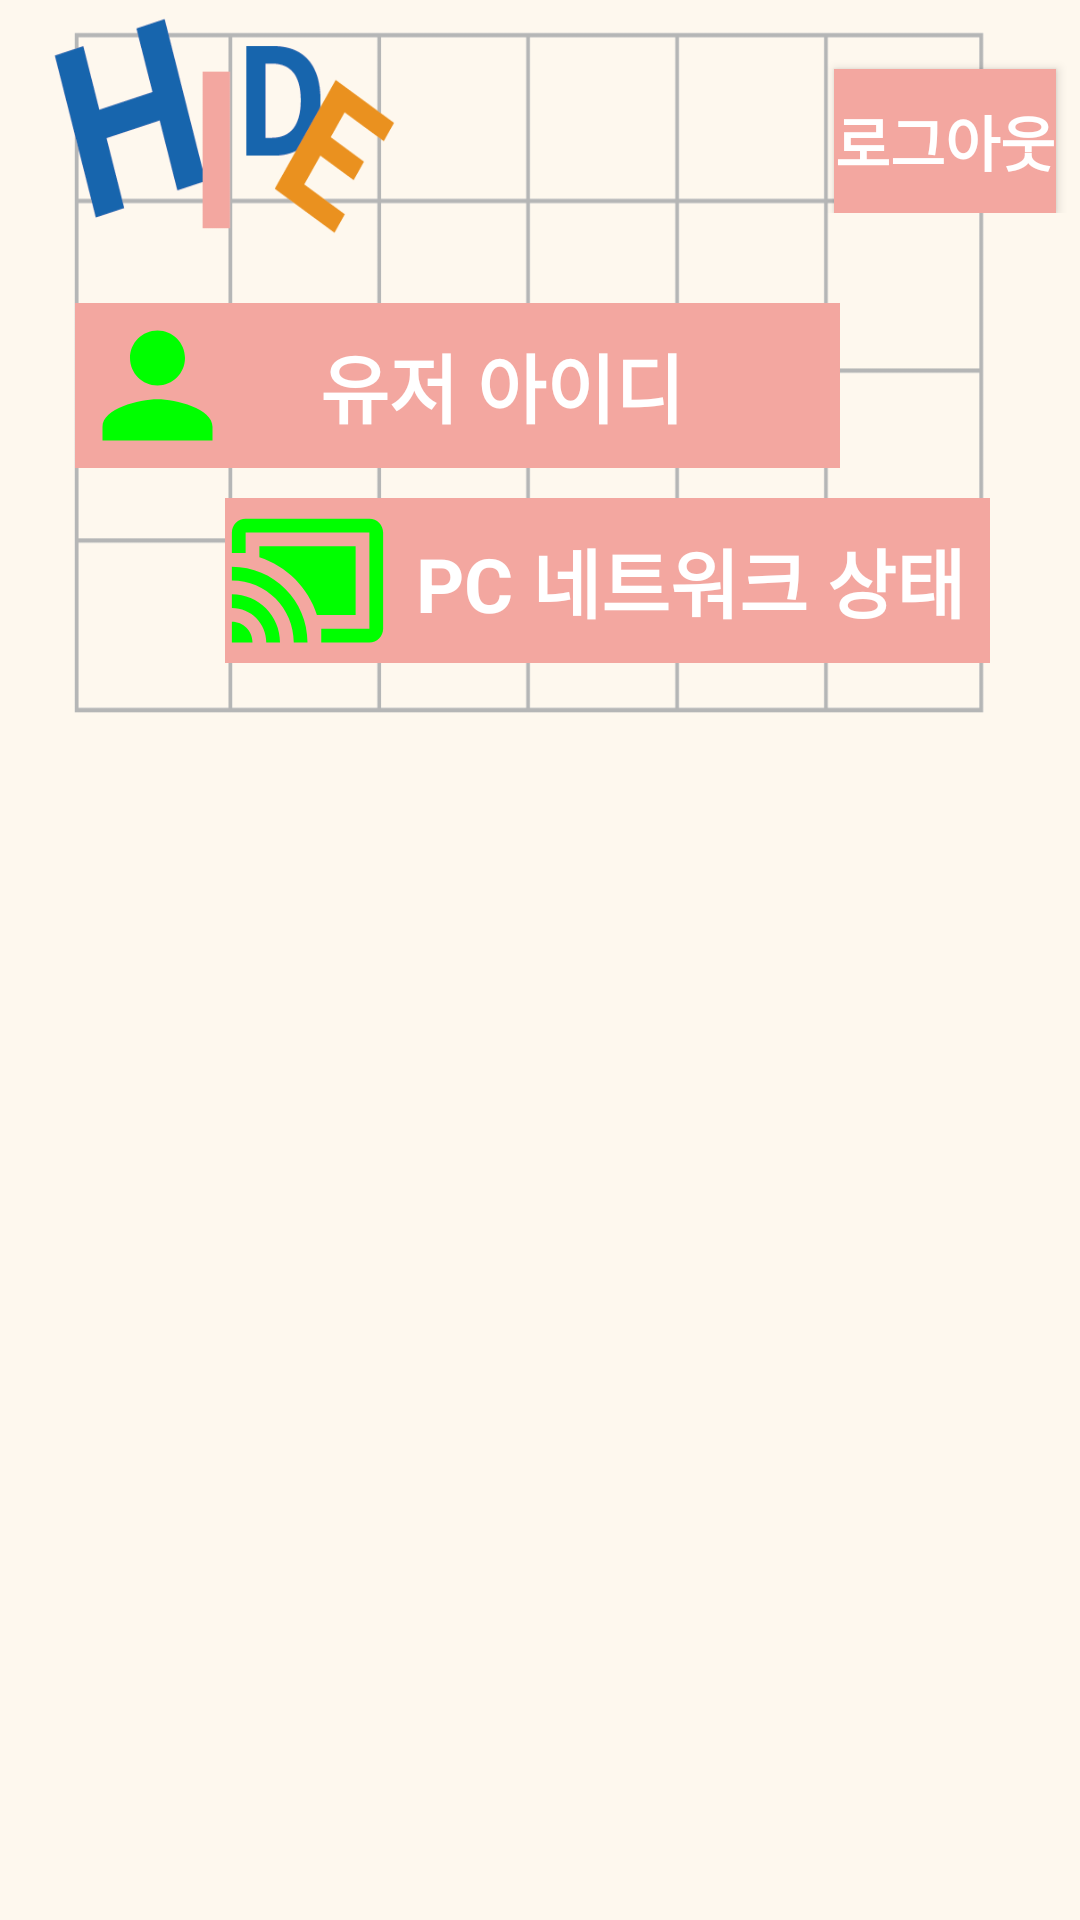

Icon click points for this 1080 x 1920 phone screenshot, format (x,y):
cast connected: (307,580)
person: (157,385)
